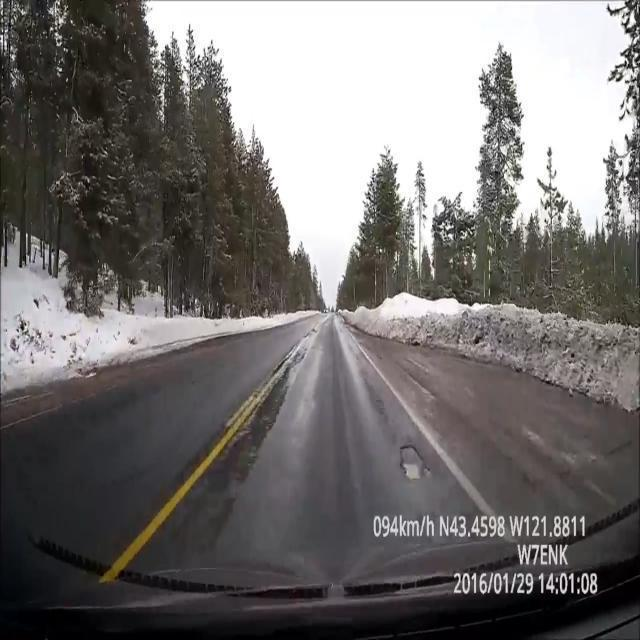Pothole: (400, 445, 430, 479)
